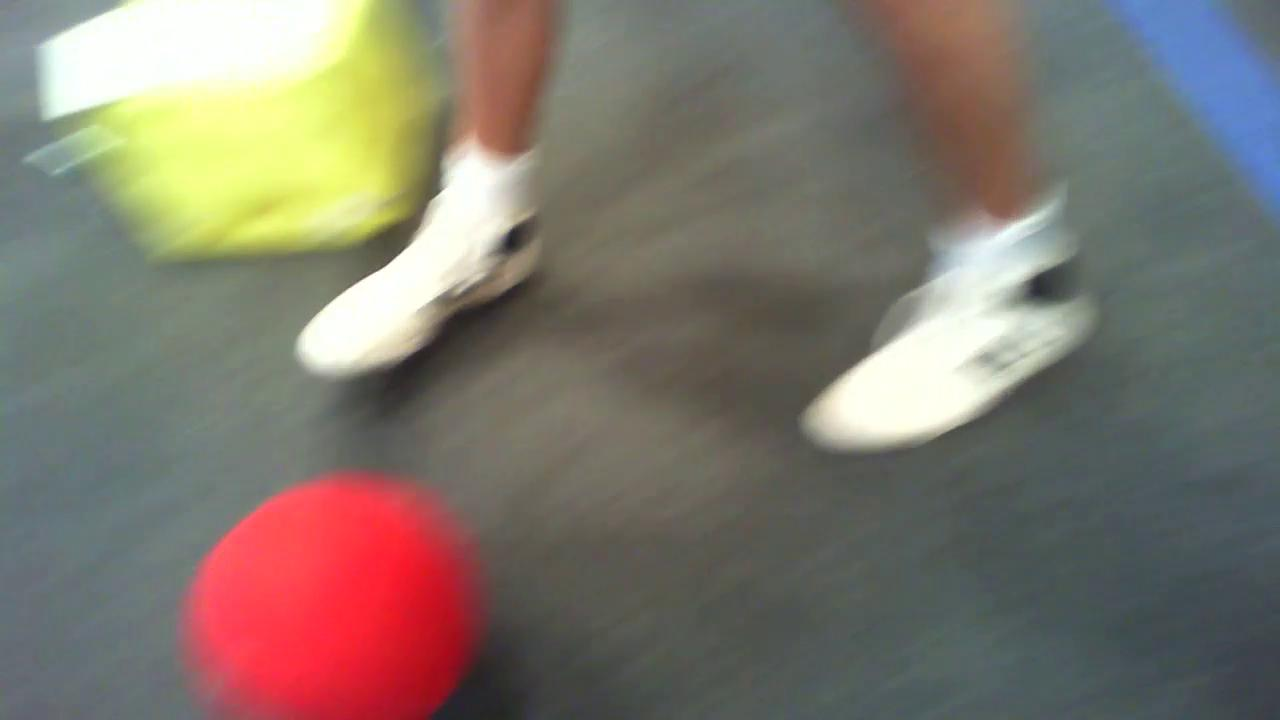Red_Ball: (165, 462, 478, 720)
